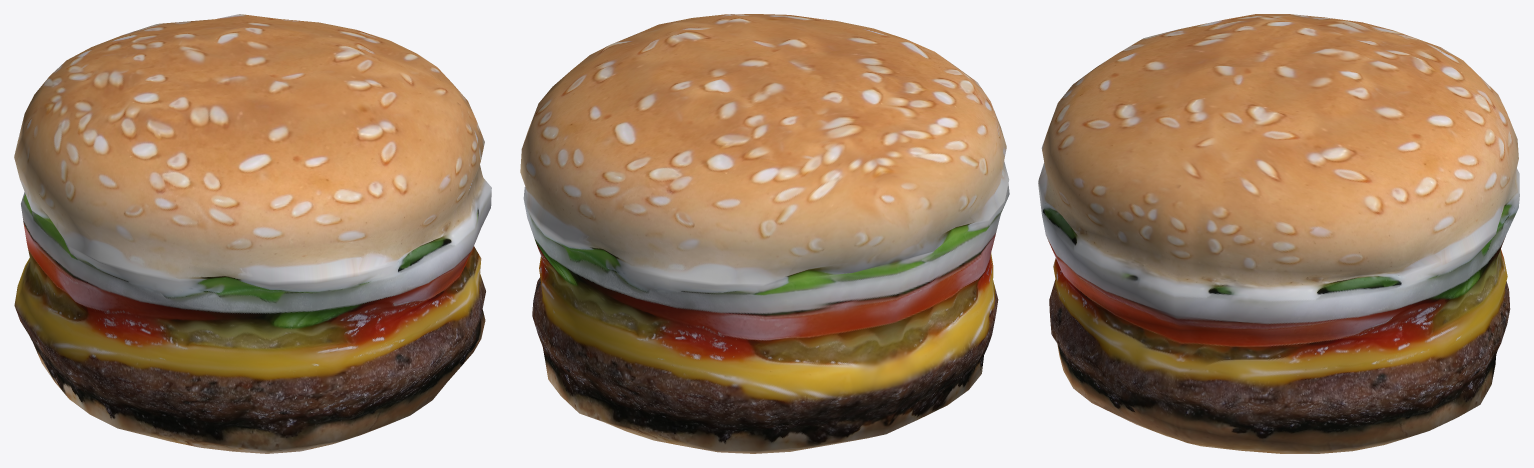
The model's file is BurgerLowPoly.fbx.
3 renders of one model, left to right at view 1: azimuth 30°, elevation 25°; view 2: azimuth 150°, elevation 25°; view 3: azimuth 270°, elevation 25°, orthographic.
Visible parts, largest first — view 1: BurgerLR; view 2: BurgerLR; view 3: BurgerLR.
Boxes of the visible parts, <box> form: BurgerLR: <box>14,14,491,453</box>; BurgerLR: <box>520,14,1009,453</box>; BurgerLR: <box>1038,14,1519,453</box>.
Size of the model in its own units: 235 by 184 by 238.
